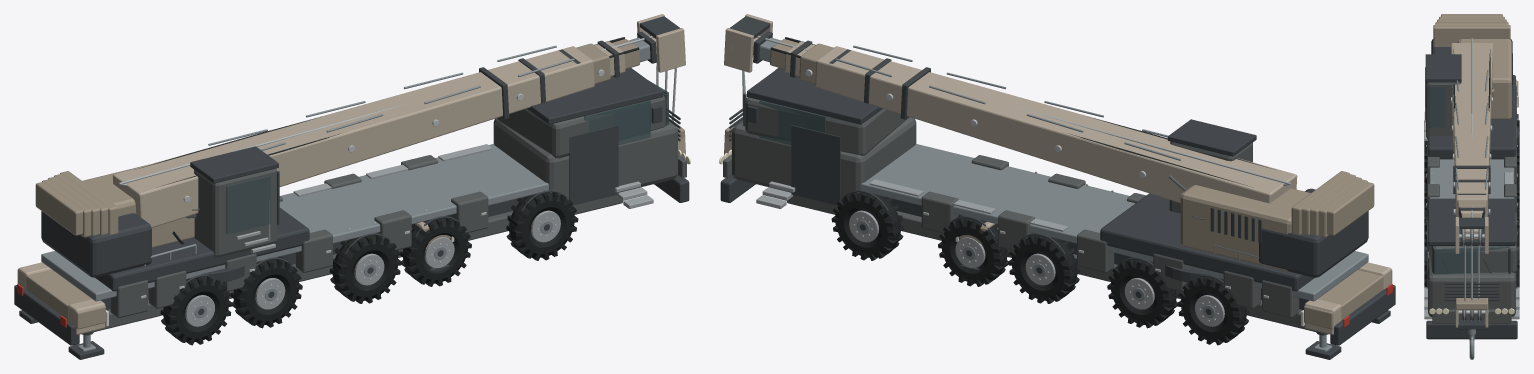
Rendered from liebherr-ltm-1100-5-3-structural-study.glb.
The picture shows the model from 3 angles, left to right: view 1: azimuth 30°, elevation 25°; view 2: azimuth 150°, elevation 25°; view 3: azimuth 270°, elevation 25°; orthographic projection. The views are drawn at different scales.
Parts seen in each view (by area): view 1: Boom_Base_Section, Carrier_Deck, Crane_Cab_Shell, Carrier_Cab_Lower, Counterweight_Base, Upper_Deck, Carrier_Door_Seam_+1, Carrier_Cab_Roof, Carrier_Cab_Upper, Crane_Cab_Side_Glass, Axle_3_R_Tire_Carcass, Axle_1_R_Tire_Carcass (+32 smaller); view 2: Boom_Base_Section, Carrier_Deck, Upper_Engine_House, Upper_Deck, Carrier_Cab_Lower, Counterweight_Base, Carrier_Cab_Upper, Carrier_Door_Seam_-1, Carrier_Cab_Roof, Axle_3_L_Tire_Carcass, Axle_1_L_Tire_Carcass, Carrier_Frame_Rail_-1 (+31 smaller); view 3: Boom_Base_Section, Carrier_Cab_Roof, Carrier_Cab_Lower, Carrier_Cab_Upper, Upper_Deck, Upper_Engine_House, Carrier_Deck, Crane_Cab_Shell, Front_Bumper, Counterweight_Plate_1, Carrier_Windscreen, Crane_Cab_Roof (+35 smaller).
Boxes of the visible parts, box(x1,y1,x2,y2) form: Boom_Base_Section: box(112, 46, 594, 227); Carrier_Deck: box(41, 144, 548, 301); Crane_Cab_Shell: box(194, 168, 276, 257); Carrier_Cab_Lower: box(493, 118, 677, 199); Counterweight_Base: box(41, 211, 151, 277); Upper_Deck: box(95, 207, 309, 291); Carrier_Door_Seam_+1: box(569, 125, 618, 205); Carrier_Cab_Roof: box(527, 68, 662, 124); Carrier_Cab_Upper: box(497, 93, 665, 158); Crane_Cab_Side_Glass: box(226, 175, 270, 234); Axle_3_R_Tire_Carcass: box(332, 235, 397, 300); Axle_1_R_Tire_Carcass: box(509, 192, 574, 257); Boom_Base_Section: box(815, 46, 1297, 203); Carrier_Deck: box(861, 144, 1368, 301); Upper_Engine_House: box(1180, 185, 1310, 271); Upper_Deck: box(1100, 193, 1314, 291); Carrier_Cab_Lower: box(732, 117, 916, 199); Counterweight_Base: box(1259, 188, 1368, 277); Carrier_Cab_Upper: box(745, 97, 909, 155); Carrier_Door_Seam_-1: box(791, 125, 840, 205); Carrier_Cab_Roof: box(747, 68, 882, 124); Axle_3_L_Tire_Carcass: box(1012, 235, 1077, 300); Axle_1_L_Tire_Carcass: box(835, 192, 900, 257); Carrier_Frame_Rail_-1: box(787, 195, 1316, 331); Boom_Base_Section: box(1451, 43, 1492, 216); Carrier_Cab_Roof: box(1428, 198, 1515, 245); Carrier_Cab_Lower: box(1428, 234, 1515, 316); Carrier_Cab_Upper: box(1426, 208, 1517, 273); Upper_Deck: box(1428, 75, 1515, 159); Upper_Engine_House: box(1457, 39, 1511, 119); Carrier_Deck: box(1429, 159, 1514, 198); Crane_Cab_Shell: box(1426, 82, 1461, 139); Front_Bumper: box(1426, 320, 1517, 339); Counterweight_Plate_1: box(1433, 25, 1510, 47); Carrier_Windscreen: box(1434, 246, 1509, 274); Crane_Cab_Roof: box(1425, 54, 1461, 82).
Size of the model in its own units: 15.09 by 3.99 by 2.54.
